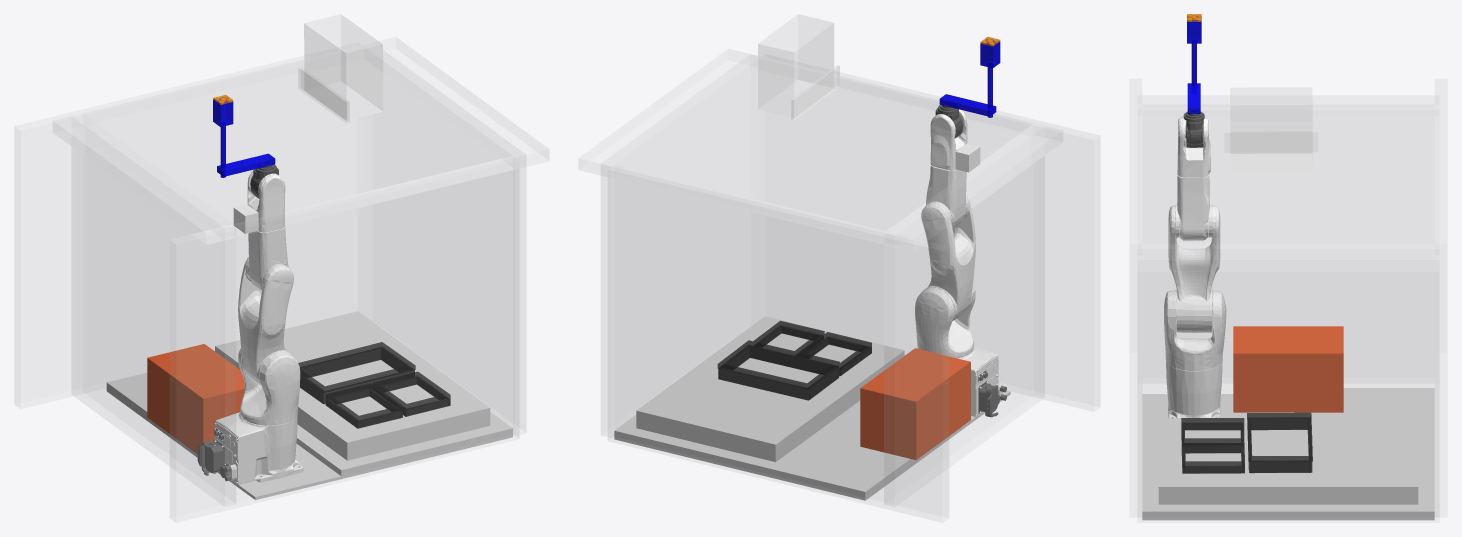
File: boltpicking_suction.mujin.dae
The picture shows the model from 3 angles, left to right: view 1: azimuth 30°, elevation 25°; view 2: azimuth 150°, elevation 25°; view 3: azimuth 270°, elevation 25°; orthographic projection. The views are drawn at different scales.
Parts seen in each view (by area): view 1: base (×12), BASE (×2), J2, padding_top_onlytarget_ (×3), J1, padding (×3), J4 (×2), container3, J3, container1, container2, suctiongripperparts; view 2: base (×12), J2, J1, container3, padding_top_onlytarget_ (×2), padding (×2), J4 (×2), BASE (×2), J3, suctiongripperparts, container1, container2; view 3: base (×13), J2, J1, padding (×3), BASE, padding_top_onlytarget_ (×3), J3, container3, J4, container2, J5, container1 (+1 smaller).
Part boxes in pixels (x1,y1,x2,y2): base (×12): (15, 14, 548, 522); BASE (×2): (197, 412, 303, 484); J2: (238, 257, 294, 385); padding_top_onlytarget_ (×3): (298, 342, 450, 421); J1: (238, 348, 300, 425); padding (×3): (300, 348, 450, 428); J4 (×2): (233, 170, 285, 233); container3: (300, 347, 414, 404); J3: (247, 227, 288, 291); container1: (327, 389, 401, 427); container2: (374, 377, 448, 415); suctiongripperparts: (217, 153, 275, 176); base (×12): (579, 14, 1099, 522); J2: (921, 195, 975, 320); J1: (915, 284, 975, 358); container3: (718, 345, 839, 400); padding_top_onlytarget_ (×2): (717, 332, 871, 389); padding (×2): (726, 338, 871, 399); J4 (×2): (930, 109, 980, 172); BASE (×2): (958, 346, 1006, 417); J3: (926, 165, 966, 228); suctiongripperparts: (939, 94, 996, 116); container1: (801, 337, 870, 373); container2: (754, 326, 823, 356); base (×13): (1130, 79, 1446, 522); J2: (1168, 205, 1220, 332); J1: (1164, 290, 1226, 371); padding (×3): (1181, 417, 1310, 473); BASE: (1166, 360, 1222, 418); padding_top_onlytarget_ (×3): (1181, 412, 1312, 467); J3: (1177, 170, 1209, 240); container3: (1248, 417, 1312, 472); J4: (1177, 117, 1210, 177); container2: (1182, 446, 1243, 473); J5: (1183, 111, 1204, 147); container1: (1182, 423, 1243, 445).
Size of what is drawn, in the model's own units: 1.32 by 0.98 by 1.28.
